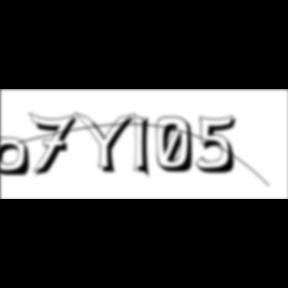0: (156, 115, 202, 174)
5: (196, 114, 242, 176)
7: (29, 111, 84, 179)
I: (133, 110, 157, 182)
Y: (74, 110, 140, 176)
o: (1, 137, 34, 179)
